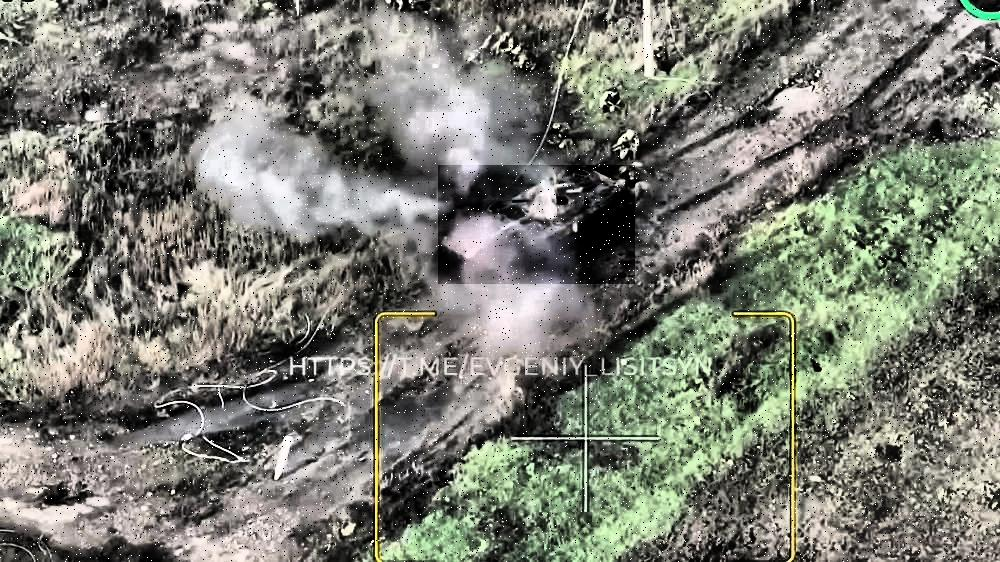military-vehicle: (438, 166, 635, 285)
